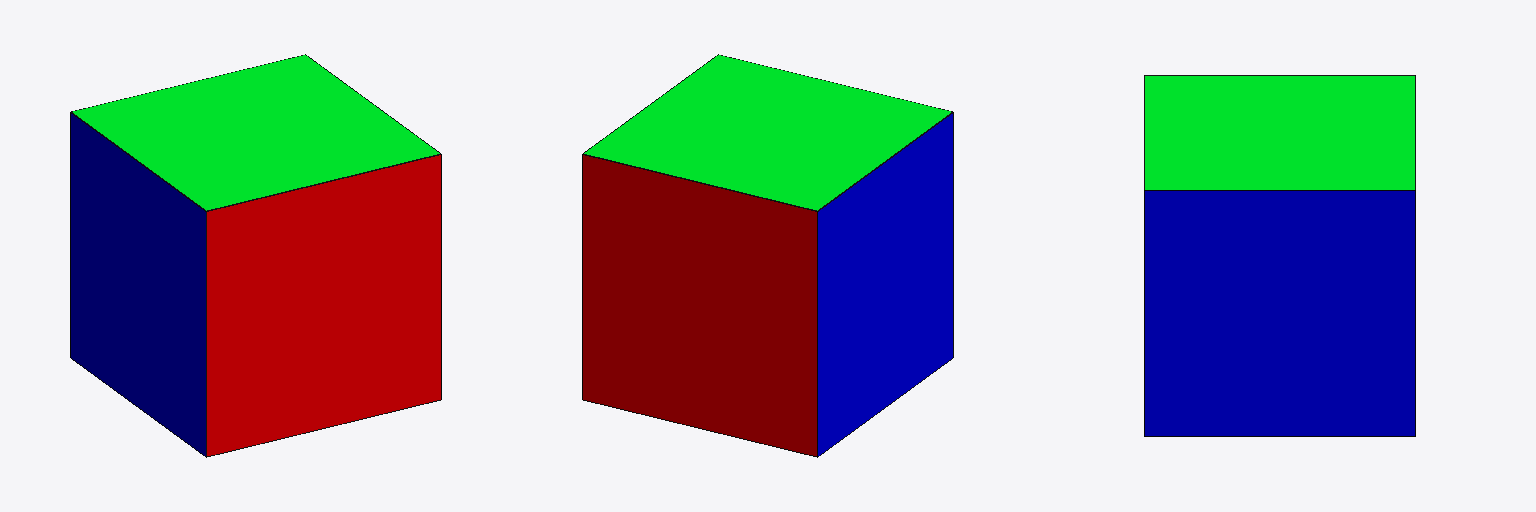
The picture shows the model from 3 angles: view 1: azimuth 30°, elevation 25°; view 2: azimuth 150°, elevation 25°; view 3: azimuth 270°, elevation 25°; orthographic projection.
Visible parts, largest first — view 1: Cube; view 2: Cube; view 3: Cube.
Part boxes in pixels (x1,y1,x2,y2): Cube: (70, 54, 441, 457); Cube: (582, 54, 953, 457); Cube: (1144, 75, 1415, 436).
Size of the model in its own units: 2 by 2 by 2.
Materials: 1 (1 with a texture image).